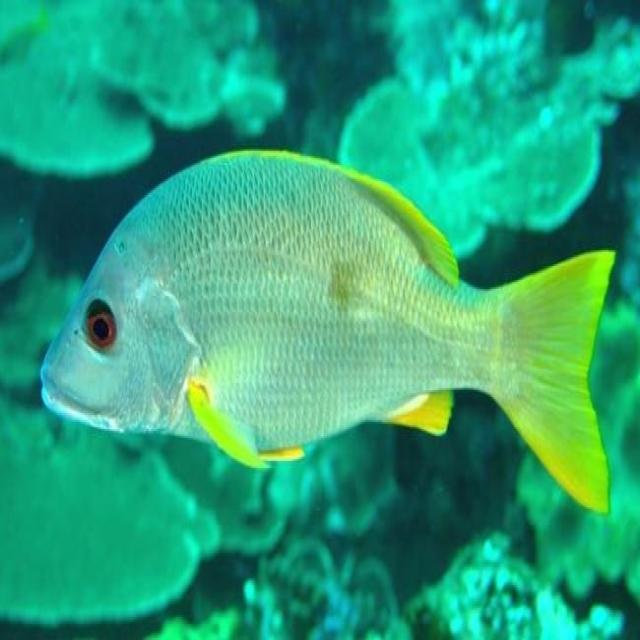ikan: (39, 146, 616, 514)
